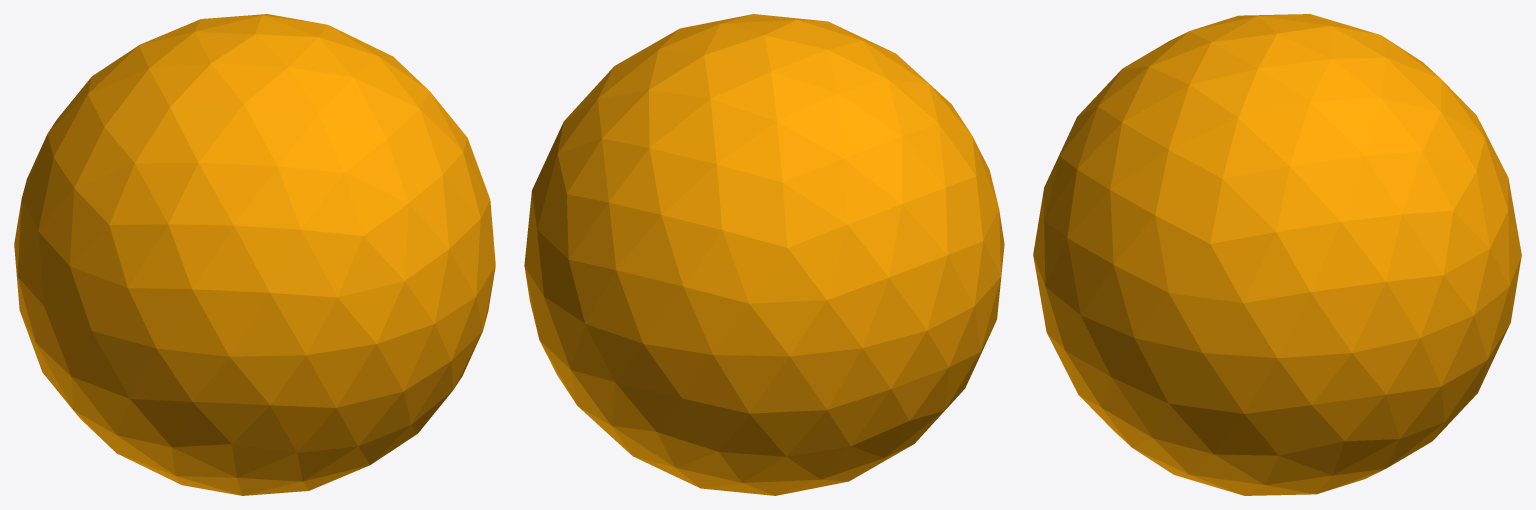
The model's file is explosion.FBX.
3 renders of one model, left to right at view 1: azimuth 30°, elevation 25°; view 2: azimuth 150°, elevation 25°; view 3: azimuth 270°, elevation 25°, orthographic.
Visible parts, largest first — view 1: VIFS001; view 2: VIFS001; view 3: VIFS001.
Part boxes in pixels (box(x1,y1,x2,y2)): VIFS001: box(14, 14, 495, 495); VIFS001: box(524, 14, 1004, 495); VIFS001: box(1033, 14, 1521, 495).
Bounding box in the file's own units: 0.4 × 0.4 × 0.4.
